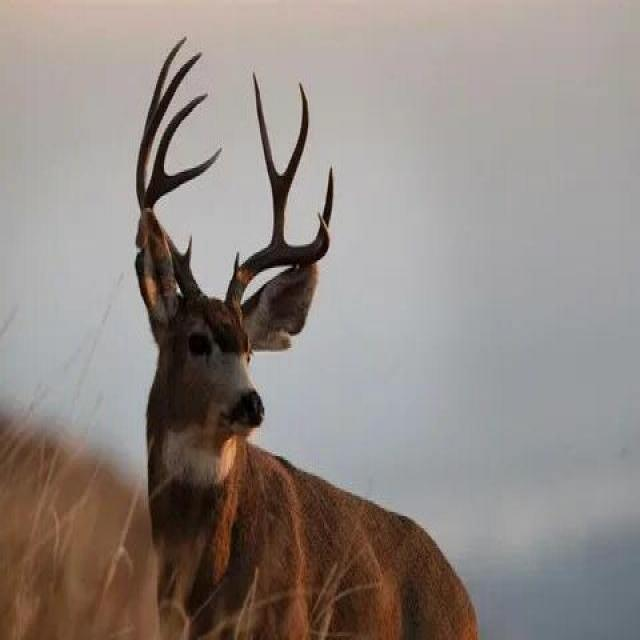deer: (52, 69, 448, 619)
